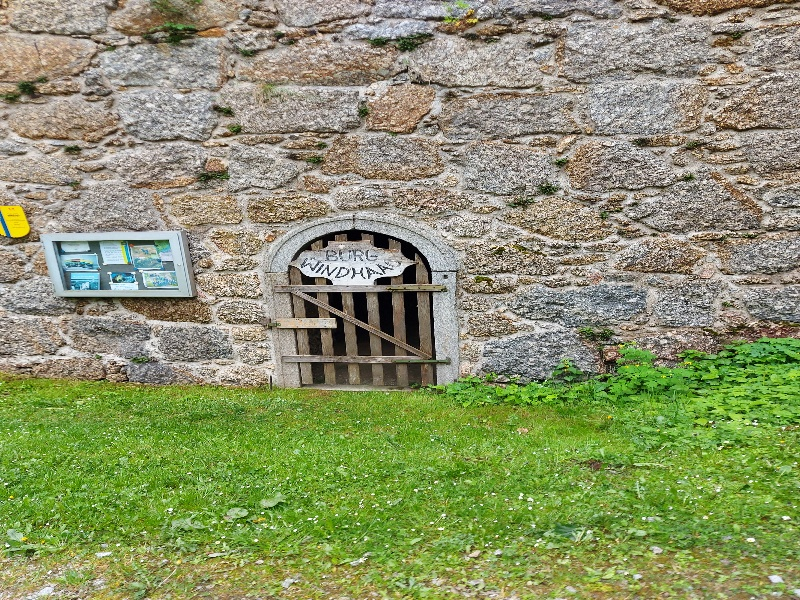dungeon: (245, 203, 472, 405)
